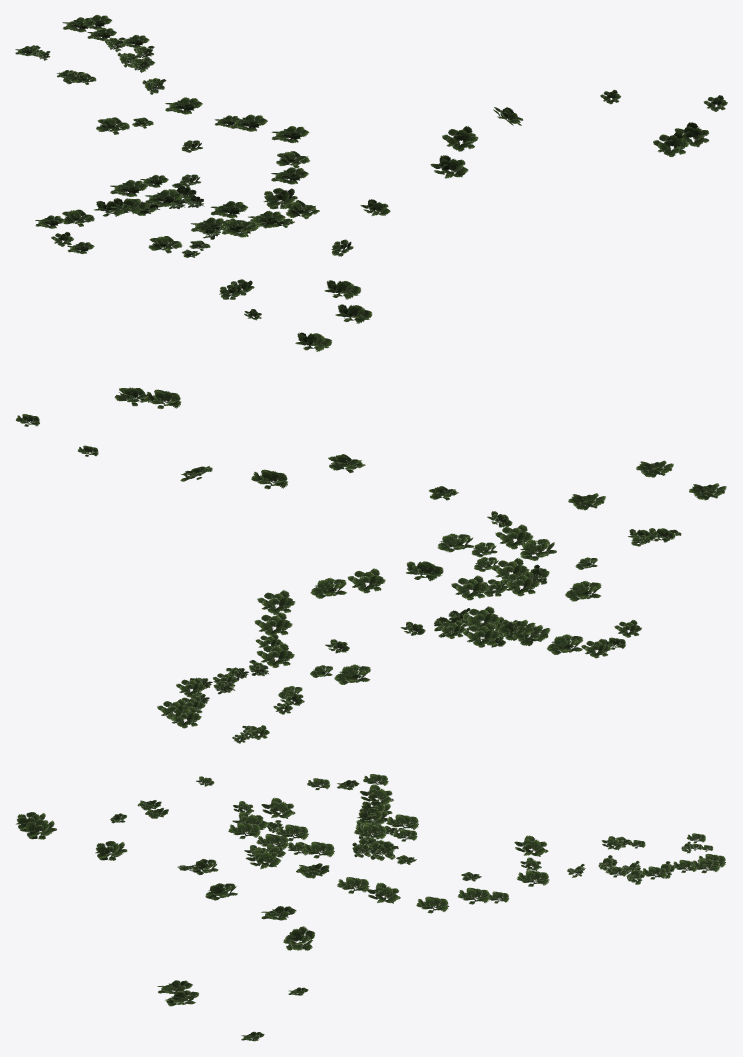
Rendered from Leafs.FBX.
The picture shows the model from 3 angles, top to bottom: view 1: azimuth 30°, elevation 25°; view 2: azimuth 150°, elevation 25°; view 3: azimuth 270°, elevation 25°; orthographic projection. The views are drawn at different scales.
Parts seen in each view (by area): view 1: Plane158; view 2: Plane158; view 3: Plane158.
Part boxes in pixels (bbox=[...]): Plane158: bbox=[15, 15, 727, 351]; Plane158: bbox=[15, 387, 726, 743]; Plane158: bbox=[15, 774, 725, 1041].
Size of the model in its own units: 917 by 88.08 by 964.
